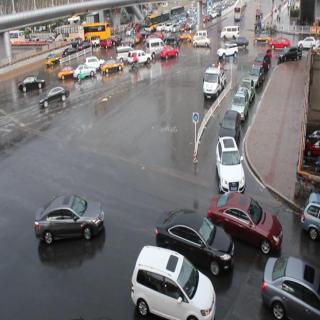BigCar: (83, 21, 111, 39), (145, 14, 162, 32), (233, 2, 247, 23)
Car: (131, 245, 216, 320), (154, 201, 232, 275), (212, 184, 285, 252), (260, 251, 320, 320), (33, 196, 105, 247), (216, 139, 246, 195), (201, 55, 228, 99), (38, 88, 72, 108), (220, 108, 240, 140), (233, 88, 250, 119), (16, 72, 45, 90), (278, 45, 304, 65), (127, 48, 152, 68), (217, 40, 240, 61), (71, 65, 97, 82), (100, 58, 124, 76), (160, 43, 181, 61), (250, 63, 264, 88), (56, 64, 74, 82), (178, 25, 192, 47), (220, 25, 240, 39), (192, 36, 210, 50), (44, 53, 62, 66), (272, 35, 288, 49), (254, 31, 271, 44), (79, 38, 91, 51), (62, 46, 77, 56), (101, 39, 113, 49), (165, 22, 172, 34)
